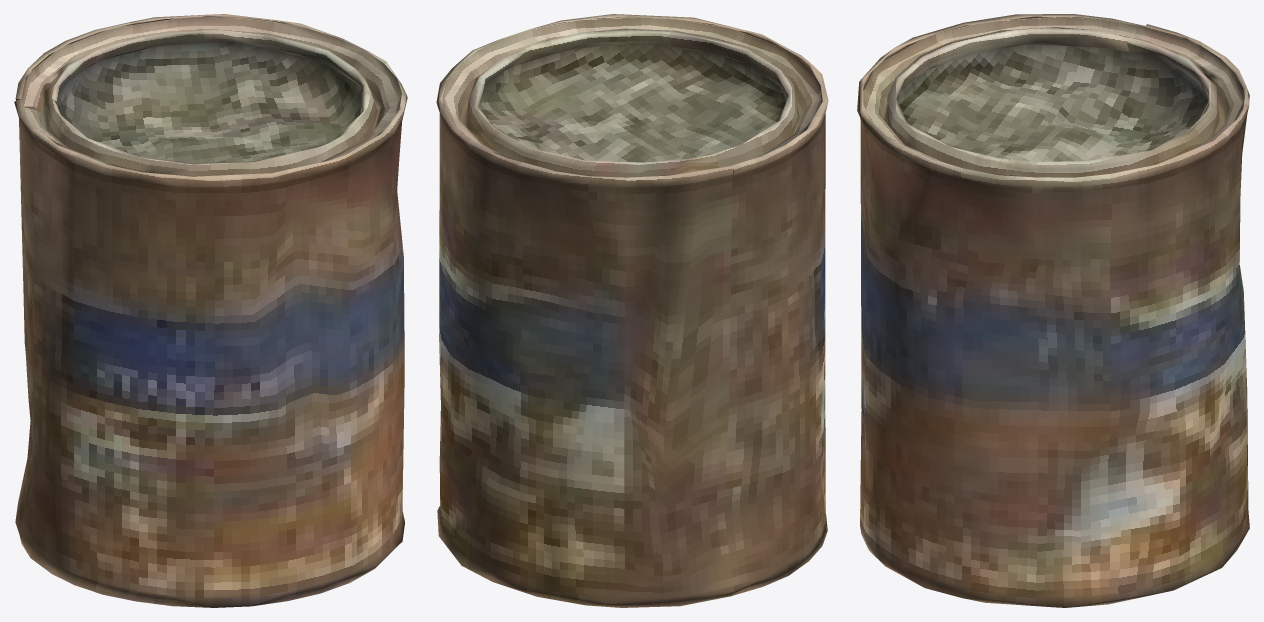
File: can_rusted.glb
The picture shows the model from 3 angles, left to right: view 1: azimuth 30°, elevation 25°; view 2: azimuth 150°, elevation 25°; view 3: azimuth 270°, elevation 25°; orthographic projection.
Visible parts, largest first — view 1: can_rusted; view 2: can_rusted; view 3: can_rusted.
Part boxes in pixels (x1=…): can_rusted: x1=14, y1=14, x2=407, y2=607; can_rusted: x1=436, y1=14, x2=828, y2=607; can_rusted: x1=857, y1=14, x2=1249, y2=607.
Size of the model in its own units: 0.1245 by 0.1514 by 0.1247.
1 material, 1 textured.
